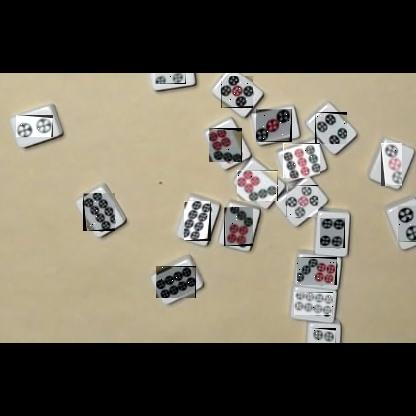2p: (16, 115, 53, 137), (397, 206, 416, 242)
3p: (256, 109, 292, 142), (381, 143, 402, 186)
4p: (315, 112, 347, 144), (320, 218, 345, 248), (155, 73, 186, 84)
5p: (286, 185, 318, 217), (221, 76, 253, 108)
6p: (310, 328, 336, 343)
7p: (237, 170, 278, 201), (224, 207, 253, 246), (209, 128, 242, 162), (297, 257, 337, 285)
8p: (156, 266, 196, 298), (83, 193, 115, 231), (184, 201, 211, 241), (294, 292, 333, 315)
9p: (283, 143, 320, 178)
